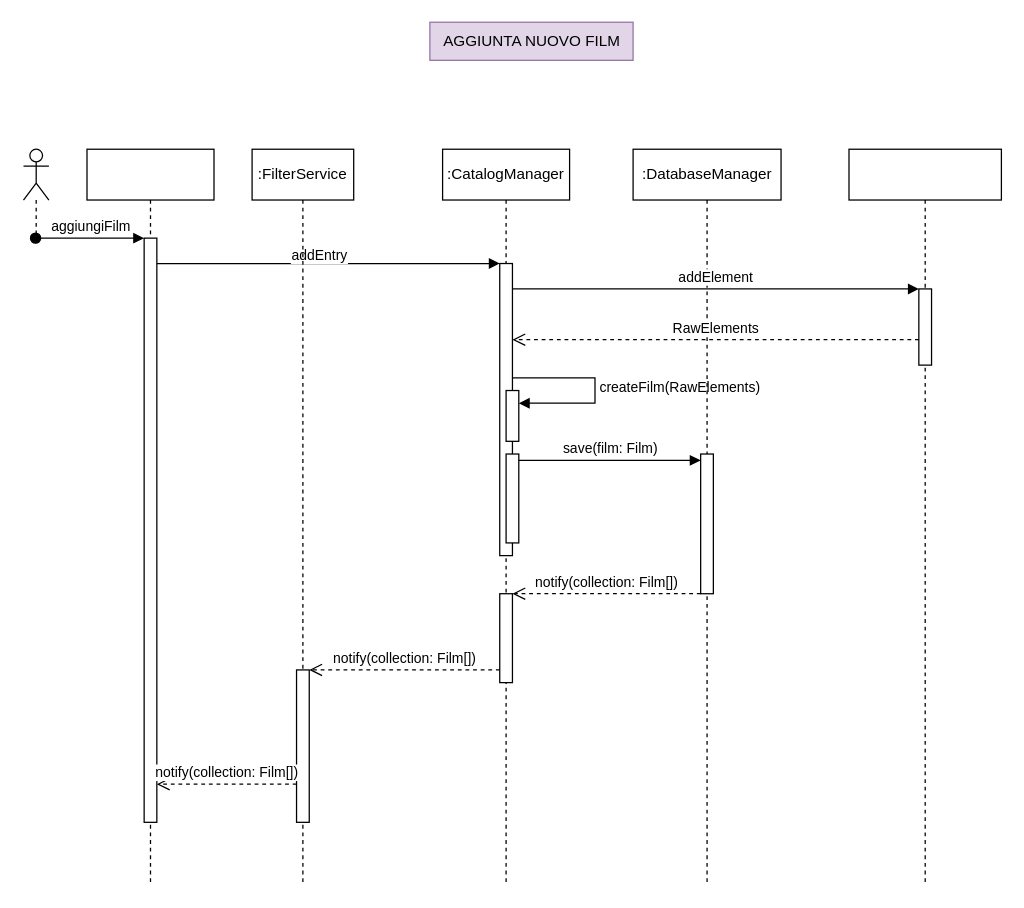
This 1024x908 diagram has some shape labels left out. The shapes that lost their labels are listed below. From the top down, each one's box as (x1, y1, x2, y2) in pixels, then its label:
(86, 148, 214, 886): UserInterface
(848, 148, 1001, 886): :FileSystemManager
